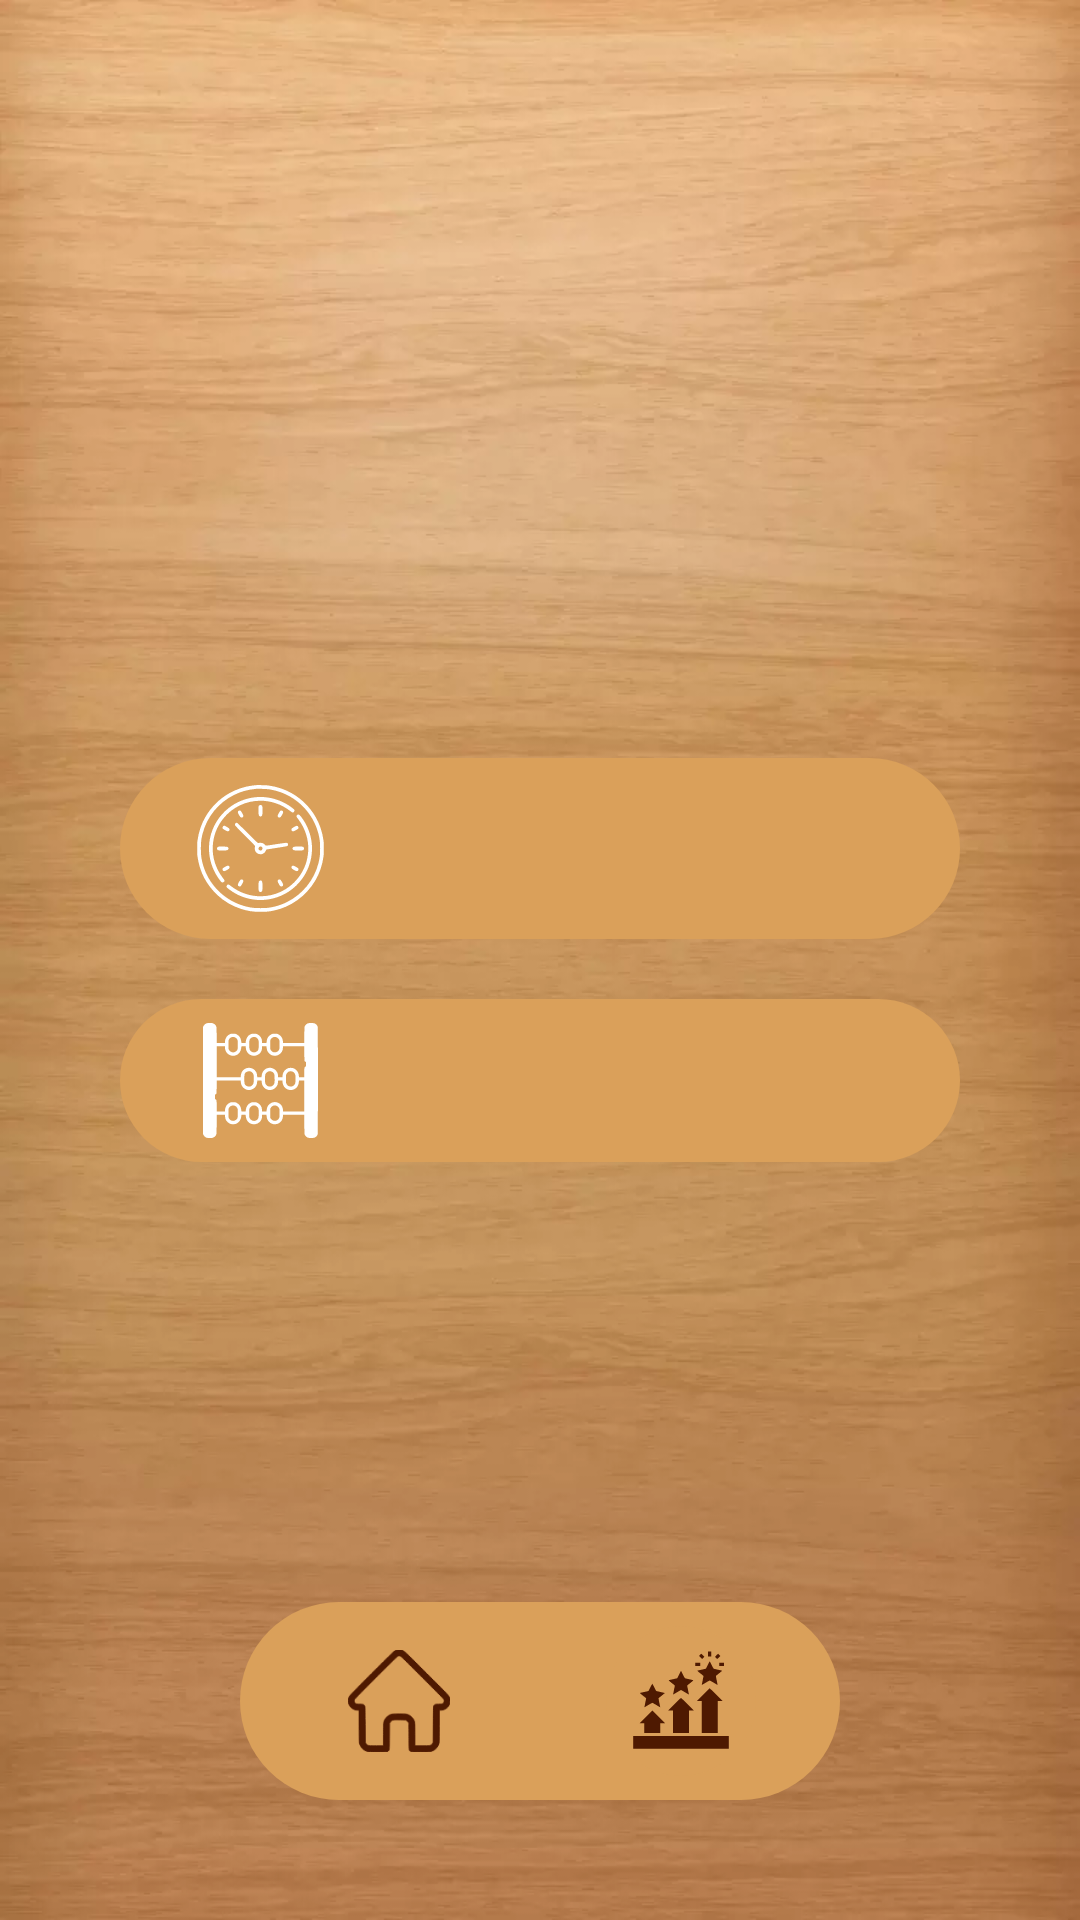

Icons on this 1080 × 1920 Android screen, each with the point to tap as (x=x, y=y):
clock: (x=243, y=856)
count: (x=260, y=1080)
home: (x=399, y=1701)
statistics: (x=681, y=1700)
